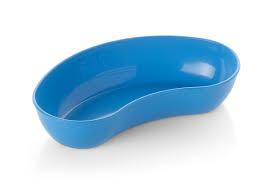Kidney Tray: (32, 30, 241, 150)
